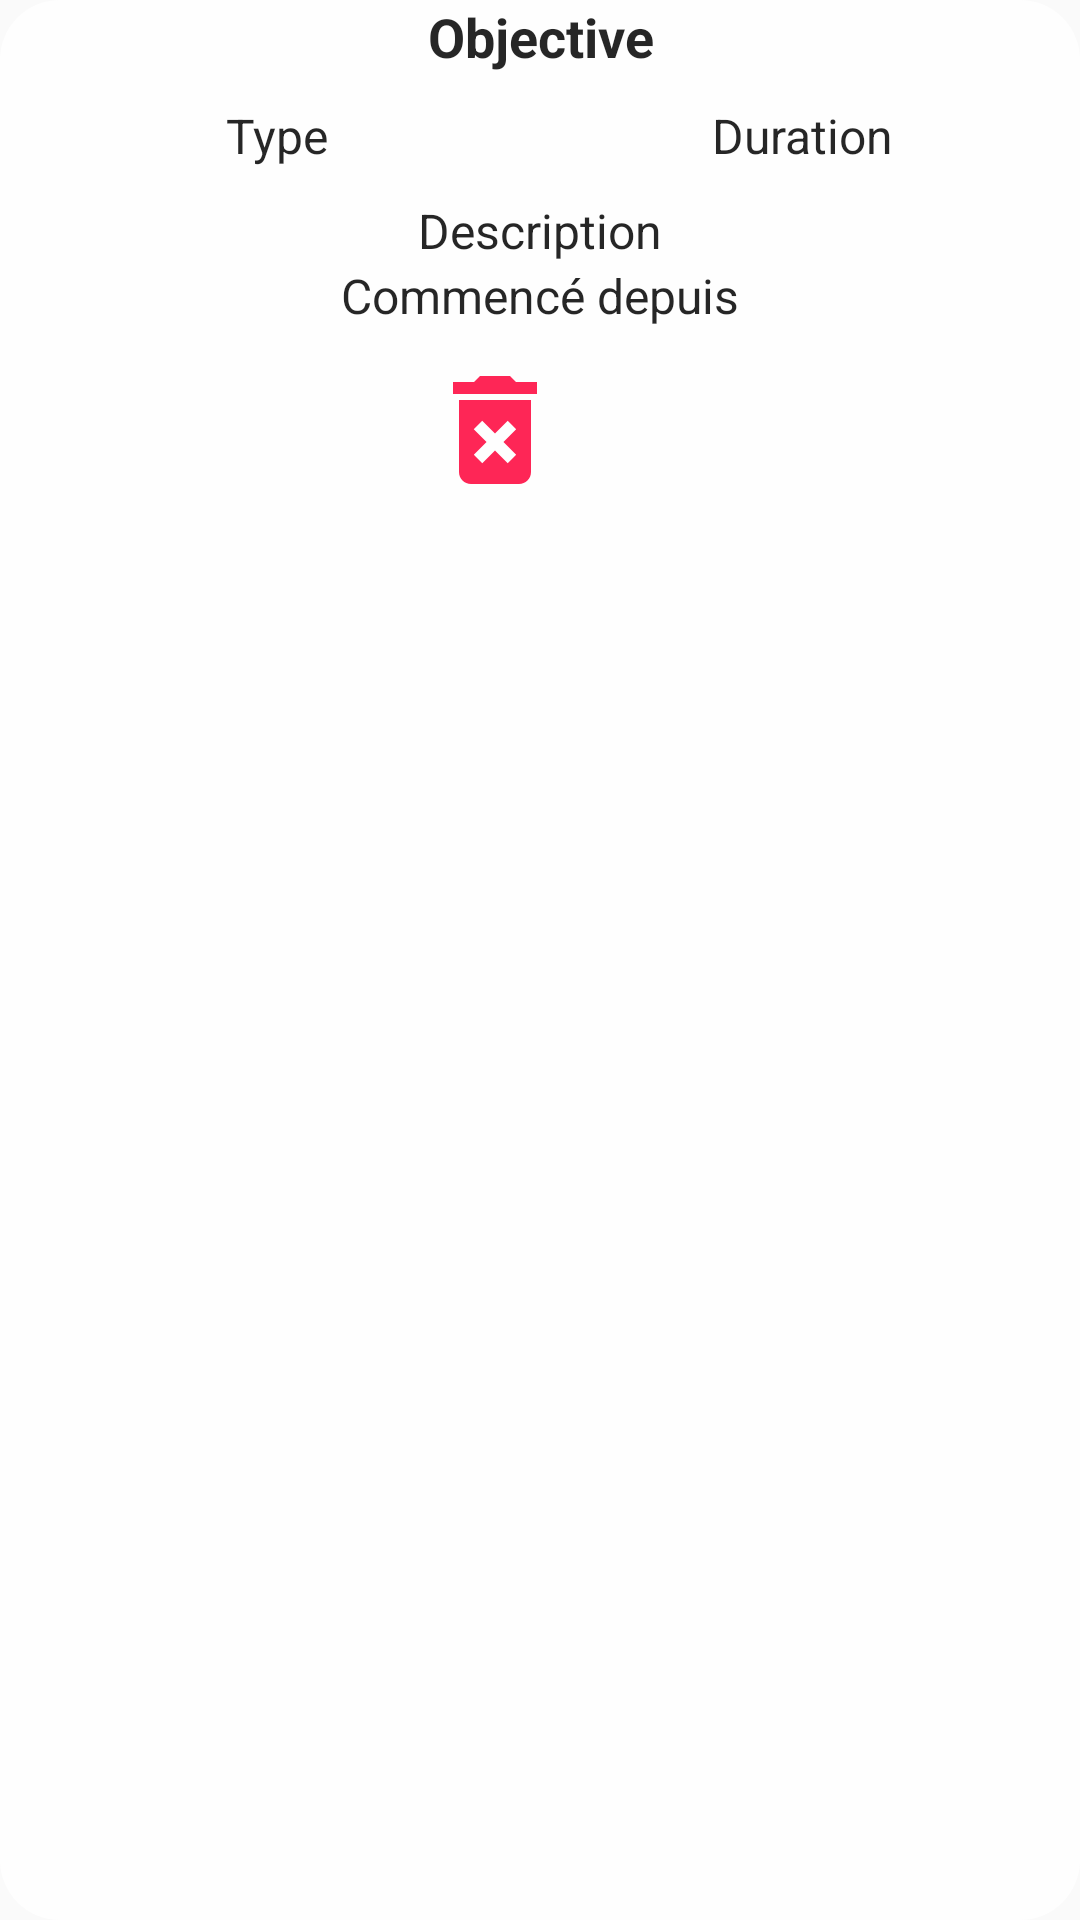

Icons on this 1080px x 1920px Android screen, each with its box as [left=x1, top=y1, right=x2, bottom=y2]:
delete forever: [left=453, top=376, right=537, bottom=484]
